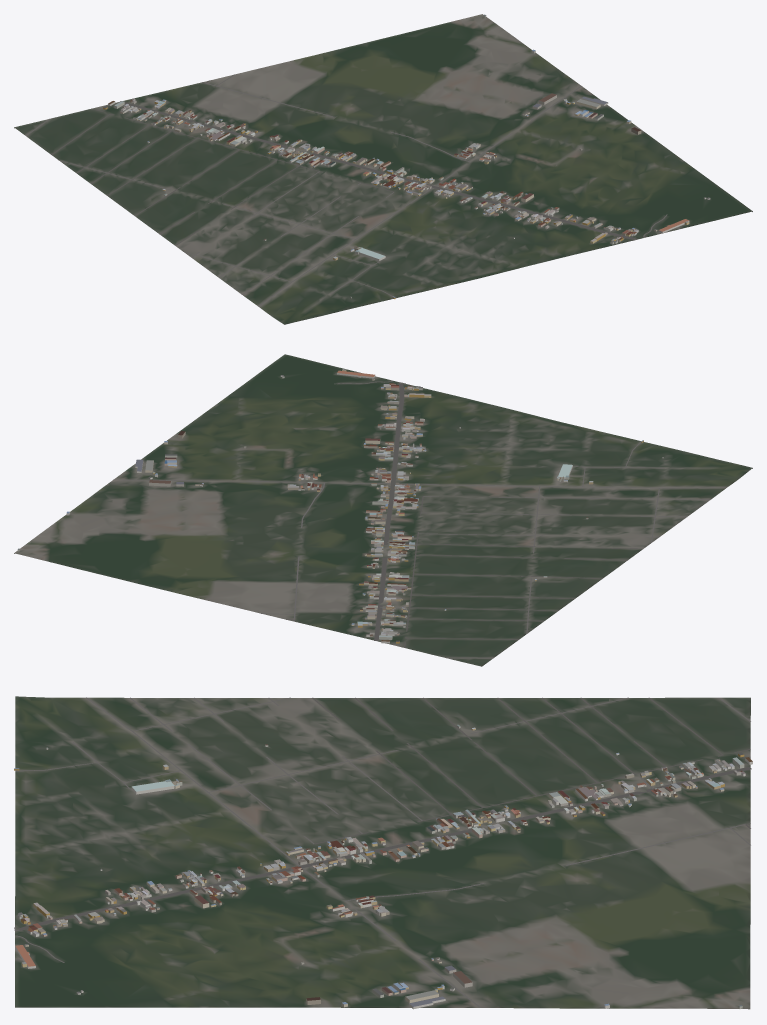
3 views of the same model, one above another, from view 1: azimuth 30°, elevation 25°; view 2: azimuth 150°, elevation 25°; view 3: azimuth 270°, elevation 25° (orthographic). The views are drawn at different scales.
Visible parts, largest first — view 1: ground, buildings, roads; view 2: ground, buildings, roads; view 3: ground, buildings, roads.
Boxes of the visible parts, x1,y1,x2,y2 form: ground: (14, 14, 752, 324); buildings: (103, 14, 710, 299); roads: (26, 74, 679, 306); ground: (14, 354, 752, 666); buildings: (17, 369, 663, 643); roads: (113, 372, 726, 658); ground: (15, 696, 750, 1009); buildings: (14, 724, 752, 1009); roads: (14, 697, 751, 1007).
Size of the model in its own units: 1405 by 15.4 by 1407.
